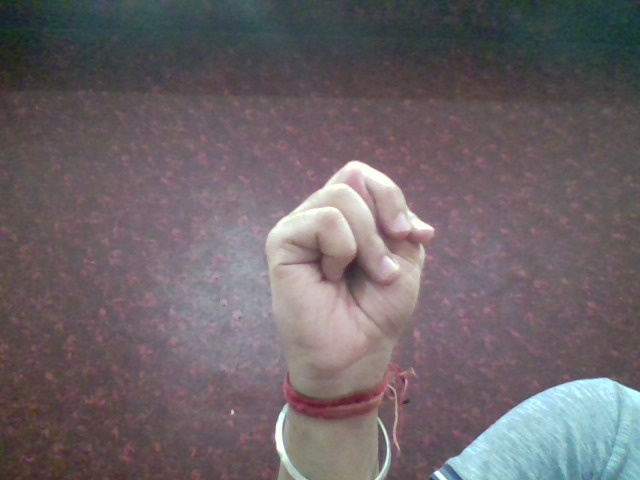n: (254, 155, 445, 377)
